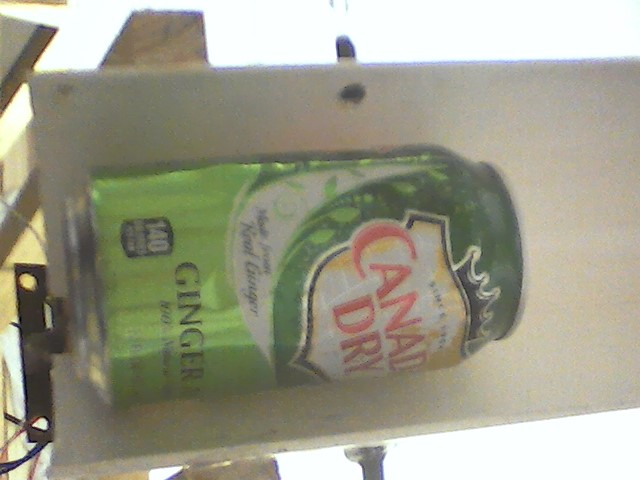lata: (61, 142, 537, 405)
